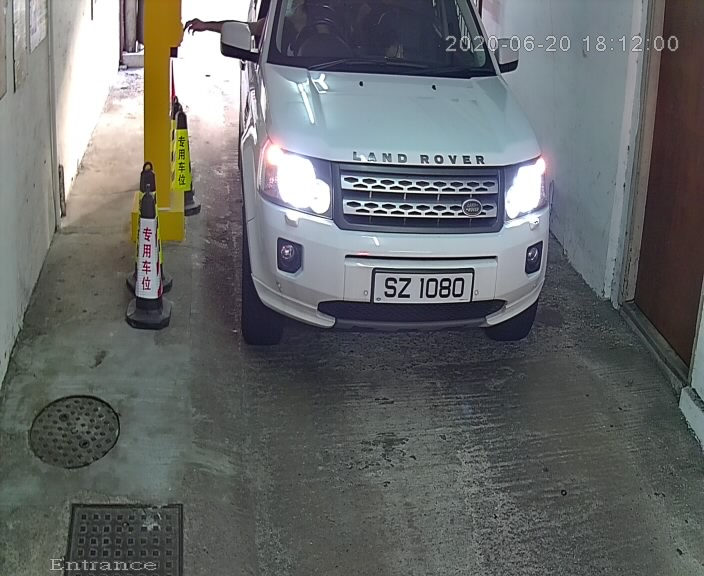privatecar: (213, 1, 580, 368)
